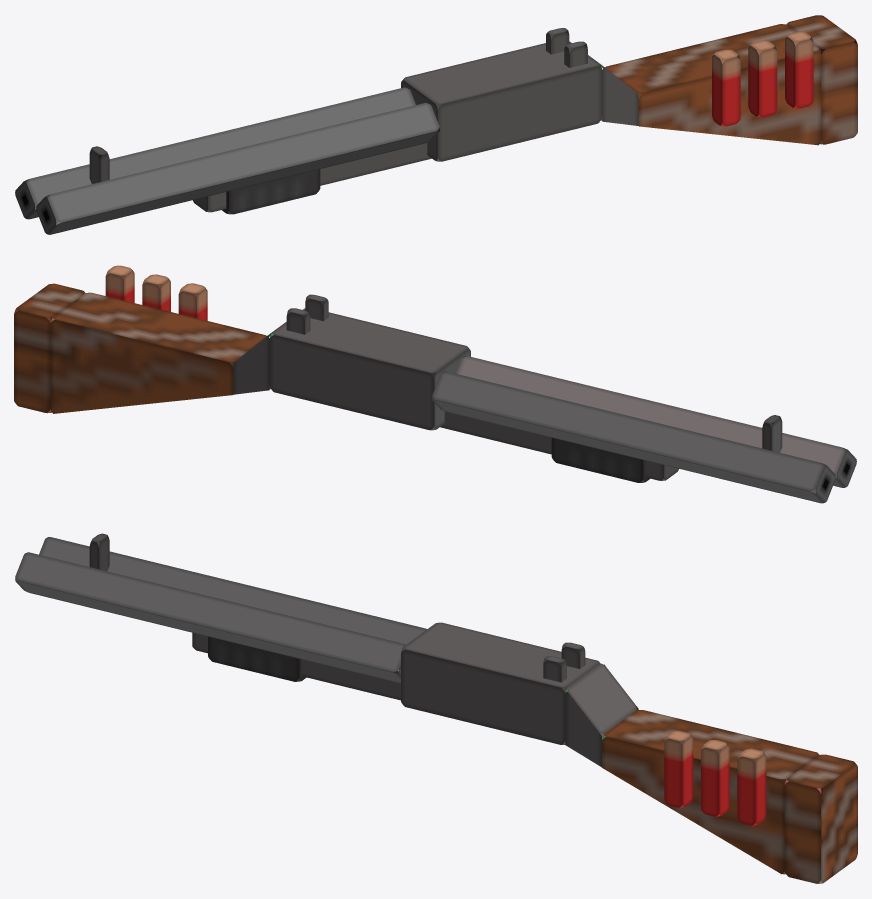
Rendered from sotgan.fbx.
3 views of the same model, one above another, from view 1: azimuth 30°, elevation 25°; view 2: azimuth 150°, elevation 25°; view 3: azimuth 330°, elevation 25° (orthographic).
Visible parts, largest first — view 1: cañon1, cuerpo, culata delantera, cañon2, culata trasera, recargar, recargar2, cartucho1, cartucho3, cartucho2, culata3, mira (+2 smaller); view 2: culata delantera, cañon2, cuerpo, cañon1, culata trasera, recargar, recargar2, culata3, cartucho2, cartucho3, cartucho1, mira (+2 smaller); view 3: cañon1, cuerpo, culata delantera, culata trasera, cañon2, culata3, recargar2, cartucho2, cartucho3, cartucho1, recargar, mira.
Boxes of the visible parts, x1,y1,x2,y2 form: cañon1: (36, 102, 439, 234); cuerpo: (401, 41, 602, 161); culata delantera: (605, 24, 821, 145); cañon2: (15, 87, 415, 219); culata trasera: (786, 15, 857, 144); recargar: (193, 143, 431, 212); recargar2: (222, 169, 320, 214); cartucho1: (748, 40, 777, 117); cartucho3: (712, 49, 740, 126); cartucho2: (785, 31, 813, 108); culata3: (598, 64, 638, 125); mira: (89, 146, 109, 183); culata delantera: (50, 292, 266, 413); cañon2: (432, 371, 835, 503); cuerpo: (269, 308, 470, 430); cañon1: (456, 356, 856, 487); culata trasera: (14, 283, 85, 413); recargar: (440, 411, 678, 480); recargar2: (551, 438, 649, 482); culata3: (233, 332, 273, 394); cartucho2: (105, 265, 134, 302); cartucho3: (178, 283, 207, 320); cartucho1: (142, 274, 170, 311); mira: (762, 415, 782, 452); cañon1: (15, 552, 405, 683); cuerpo: (401, 622, 599, 744); culata delantera: (602, 710, 821, 874); culata trasera: (784, 754, 857, 883); cañon2: (39, 537, 426, 644); culata3: (565, 663, 638, 767); recargar2: (208, 636, 306, 681); cartucho2: (737, 748, 766, 825); cartucho3: (664, 731, 693, 807); cartucho1: (701, 740, 729, 816); recargar: (192, 632, 400, 700); mira: (89, 533, 109, 571).
Bounding box in the file's own units: 275 × 50 × 30.07.
